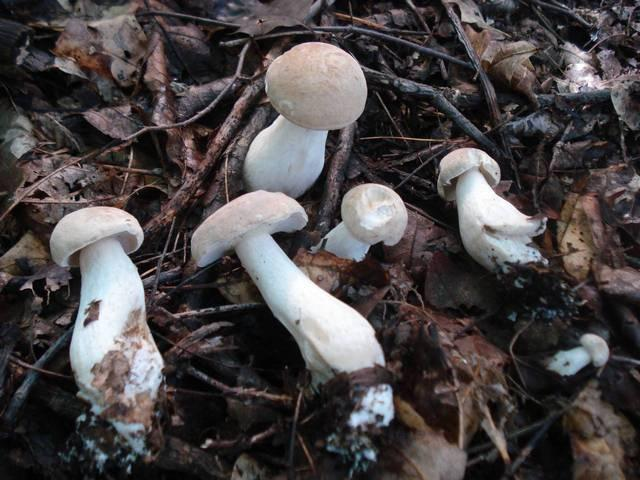Edible Mushroom: (189, 188, 386, 393), (48, 204, 166, 457), (241, 40, 367, 198), (436, 146, 549, 275), (310, 182, 408, 262)
